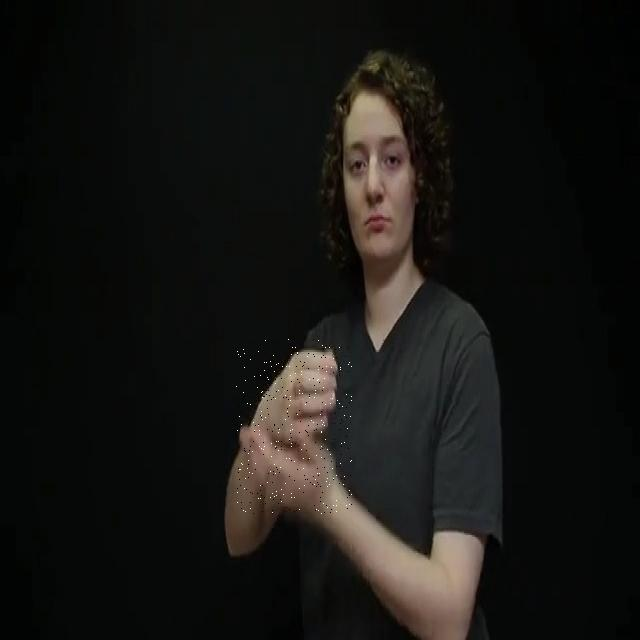cup: (236, 339, 352, 514)
